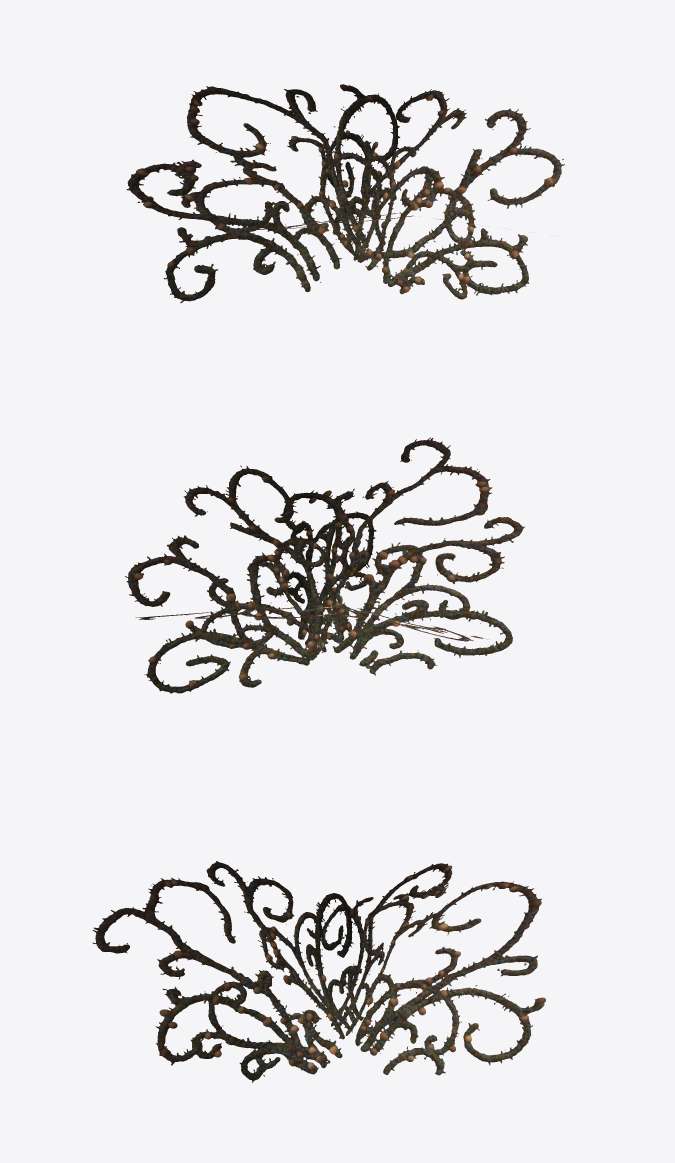
File: Plant - Alien Ground Cover2-BKAdAG1j.glb
3 views of the same model, one above another, from view 1: azimuth 30°, elevation 25°; view 2: azimuth 150°, elevation 25°; view 3: azimuth 270°, elevation 25° (orthographic). The views are drawn at different scales.
Parts seen in each view (by area): view 1: Ground_Cover2(Clone); view 2: Ground_Cover2(Clone); view 3: Ground_Cover2(Clone).
Part boxes in pixels (left/top/right/bottom): Ground_Cover2(Clone): left=126, top=84, right=564, bottom=303; Ground_Cover2(Clone): left=125, top=437, right=524, bottom=693; Ground_Cover2(Clone): left=92, top=861, right=545, bottom=1082.
Size of the model in its own units: 0.969 by 0.3332 by 1.09.
Materials: 1 (1 with a texture image).
